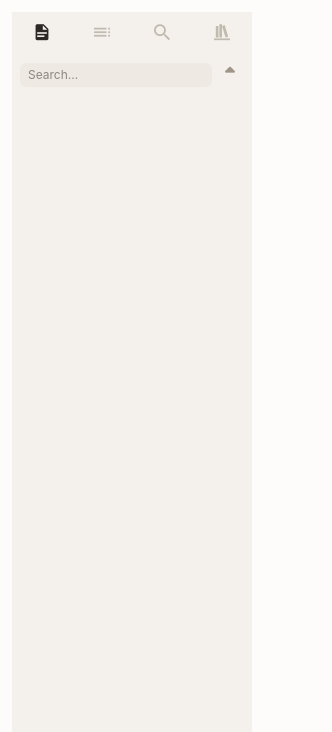
Test case: Sidebar tabs › clicking References switches to the references panel
The image size is (332, 732).
Click the button named "References". click: click(222, 32)
box: [192,12,252,52]
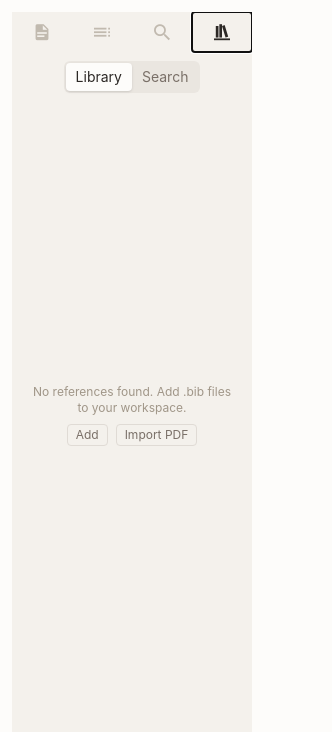
Check: the text "No references found. Add .bib files to your workspace." is shown, box [28,384,236,416]
